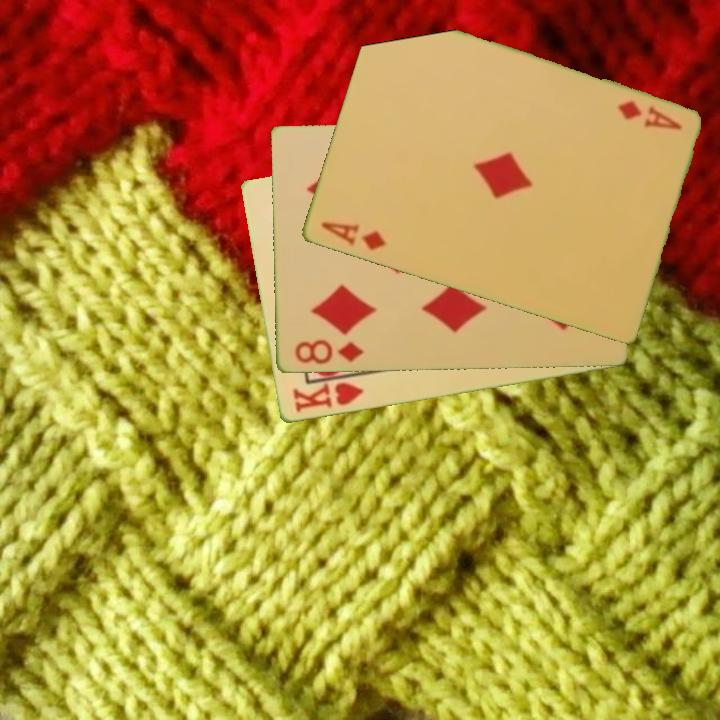8d: (291, 336, 366, 367)
Ad: (316, 218, 389, 254), (613, 97, 685, 133)
Kh: (289, 372, 368, 416)
